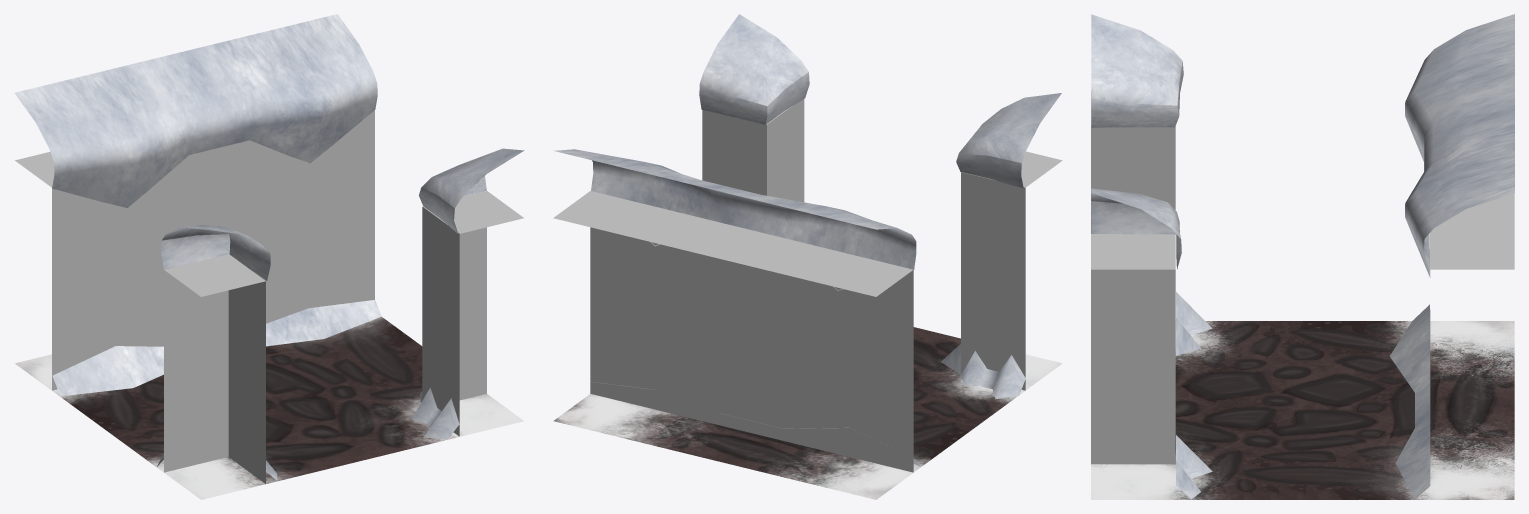
File: Mod_T_Edge_2-5.fbx
3 views of the same model, side by side, from view 1: azimuth 30°, elevation 25°; view 2: azimuth 150°, elevation 25°; view 3: azimuth 270°, elevation 25° (orthographic). The views are drawn at different scales.
Parts seen in each view (by area): view 1: polySurface46; view 2: polySurface46; view 3: polySurface46.
Boxes of the visible parts, x1,y1,x2,y2 form: polySurface46: (14,14,524,499); polySurface46: (553,14,1062,499); polySurface46: (1091,14,1514,499).
Size of the model in its own units: 100 by 80.1 by 100.
